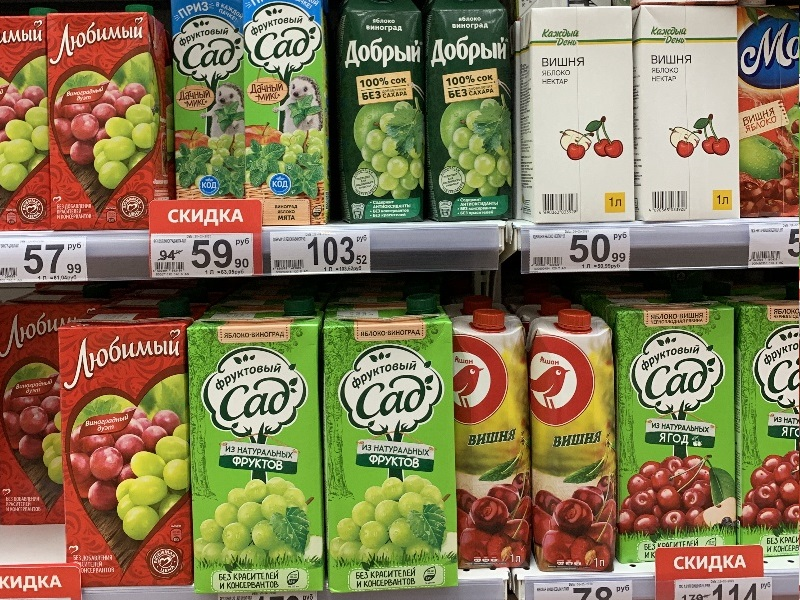juice: (41, 298, 205, 593), (310, 286, 465, 596), (186, 298, 334, 595), (602, 287, 752, 561), (37, 3, 190, 242), (516, 303, 624, 579), (436, 300, 540, 580), (231, 1, 339, 228), (338, 1, 437, 226), (419, 1, 517, 227)
